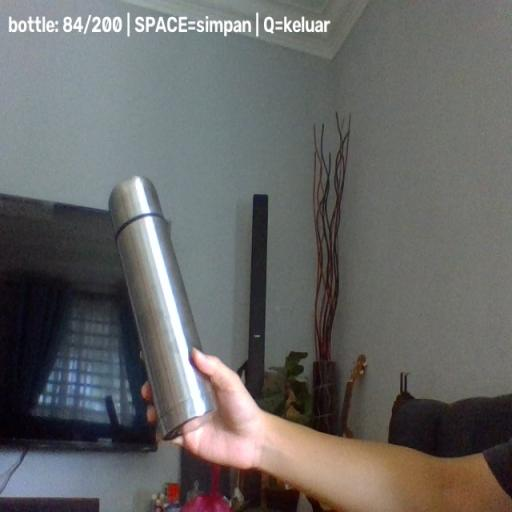Bottle: (107, 176, 219, 438)
